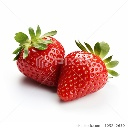strawberry: (57, 38, 120, 102), (14, 24, 65, 89)
